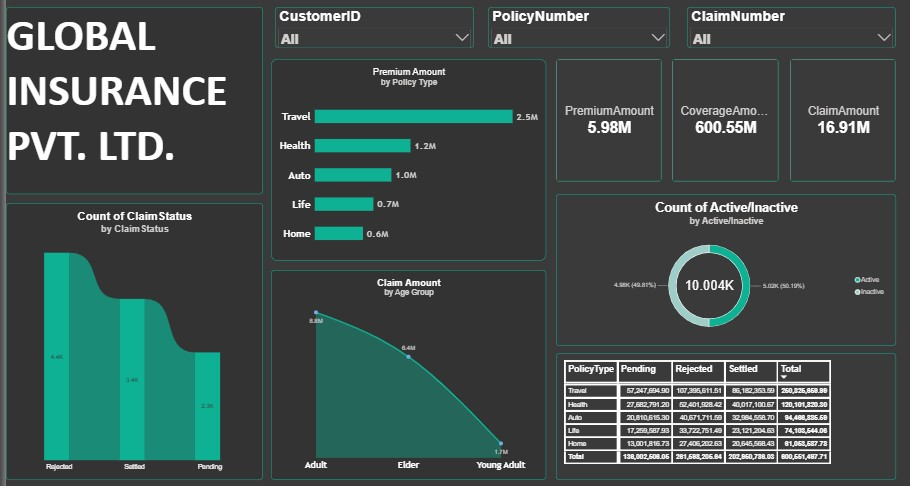

The dashboard page shown, as its layout file describes it:
{"tool":"powerbi","page":{"name":"Page 1","canvas":[1920,1080],"ordinal":0},"visuals":[{"type":"slicer","fields":{"Values":["InsuranceData.PolicyNumber"]},"box":[1024.7,38.3,386.9,87.2],"z":0},{"type":"slicer","fields":{"Values":["InsuranceData.ClaimNumber"]},"box":[1447.8,38.3,444.3,87.2],"z":1000},{"type":"slicer","fields":{"Values":["InsuranceData.CustomerID"]},"box":[571.9,38.3,423.1,87.2],"z":2000},{"type":"textbox","box":[0,38.3,546.4,397.6],"z":3000},{"type":"cardVisual","fields":{"Data":["Sum(InsuranceData.PremiumAmount)"]},"box":[1169.3,148.8,225.4,261.5],"z":4000},{"type":"cardVisual","fields":{"Data":["Sum(InsuranceData.CoverageAmount)"]},"box":[1415.9,148.8,227.5,261.5],"z":5000},{"type":"cardVisual","fields":{"Data":["Sum(InsuranceData.ClaimAmount)"]},"box":[1666.8,148.8,225.4,261.5],"z":6000},{"type":"ribbonChart","fields":{"Category":["InsuranceData.ClaimStatus"],"Y":["CountNonNull(InsuranceData.ClaimStatus)"]},"box":[0,455,546.4,588.9],"z":8000},{"type":"barChart","title":"Premium Amount","fields":{"Category":["InsuranceData.PolicyType"],"Y":["Sum(InsuranceData.PremiumAmount)"]},"box":[563.4,148.8,584.6,429.4],"z":9000},{"type":"lineChart","title":"Claim Amount","fields":{"Category":["InsuranceData.Age Group"],"Y":["Sum(InsuranceData.ClaimAmount)"]},"box":[563.4,597.4,584.6,446.5],"z":10000},{"type":"donutChart","fields":{"Category":["InsuranceData.Active/Inactive"],"Y":["CountNonNull(InsuranceData.Active/Inactive)"]},"box":[1169.3,435.8,722.8,323.1],"z":11000},{"type":"pivotTable","fields":{"Columns":["InsuranceData.ClaimStatus"],"Rows":["InsuranceData.PolicyType"],"Values":["Sum(InsuranceData.CoverageAmount)"]},"box":[1169.3,773.9,722.8,270],"z":12000}]}

Visuals, with their boxes on the page's 1920x1080 design canvas (x1, y1, x2, y2). These are canvas units, not pixel positions in the 910x486 screenshot, which may show the page scaled, cropped or inside an application window:
slicer - InsuranceData.PolicyNumber: 1025:38:1412:126
slicer - InsuranceData.ClaimNumber: 1448:38:1892:126
slicer - InsuranceData.CustomerID: 572:38:995:126
textbox: 0:38:546:436
cardVisual - Sum(InsuranceData.PremiumAmount): 1169:149:1395:410
cardVisual - Sum(InsuranceData.CoverageAmount): 1416:149:1643:410
cardVisual - Sum(InsuranceData.ClaimAmount): 1667:149:1892:410
ribbonChart - InsuranceData.ClaimStatus x CountNonNull(InsuranceData.ClaimStatus): 0:455:546:1044
"Premium Amount" barChart: 563:149:1148:578
"Claim Amount" lineChart: 563:597:1148:1044
donutChart - InsuranceData.Active/Inactive x CountNonNull(InsuranceData.Active/Inactive): 1169:436:1892:759
pivotTable - InsuranceData.ClaimStatus x InsuranceData.PolicyType: 1169:774:1892:1044
